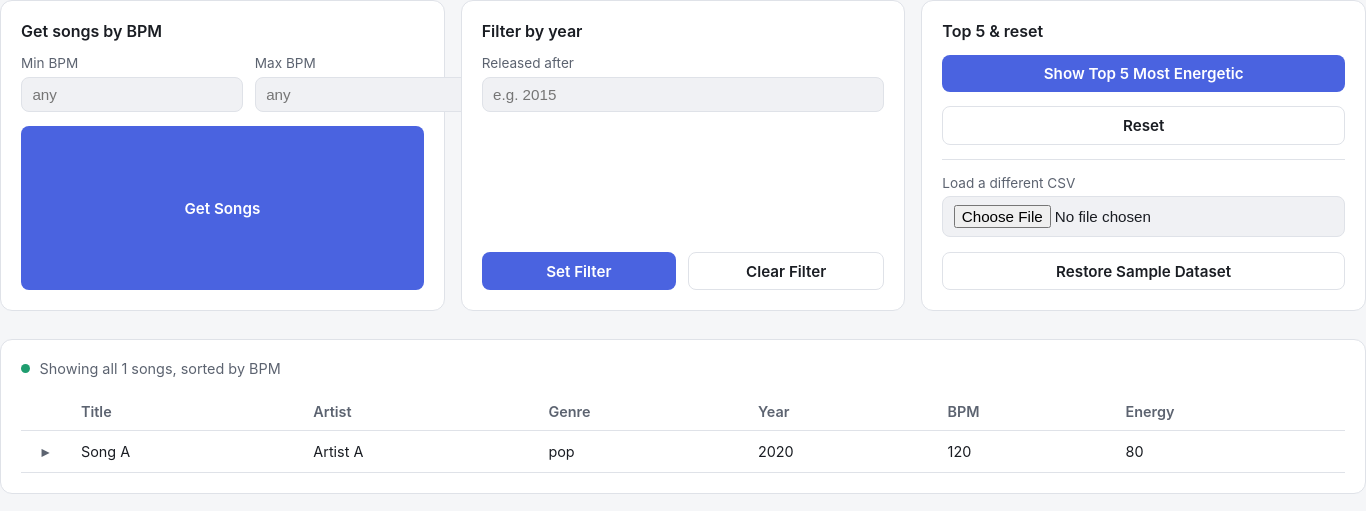
SpecDemoPanel › restores the bundled sample dataset when asked
Expected: the text "Song A" is shown, [69,430,301,473]
Click the button "Restore Sample Dataset".
click(1144, 271)  # box [942,252,1345,290]
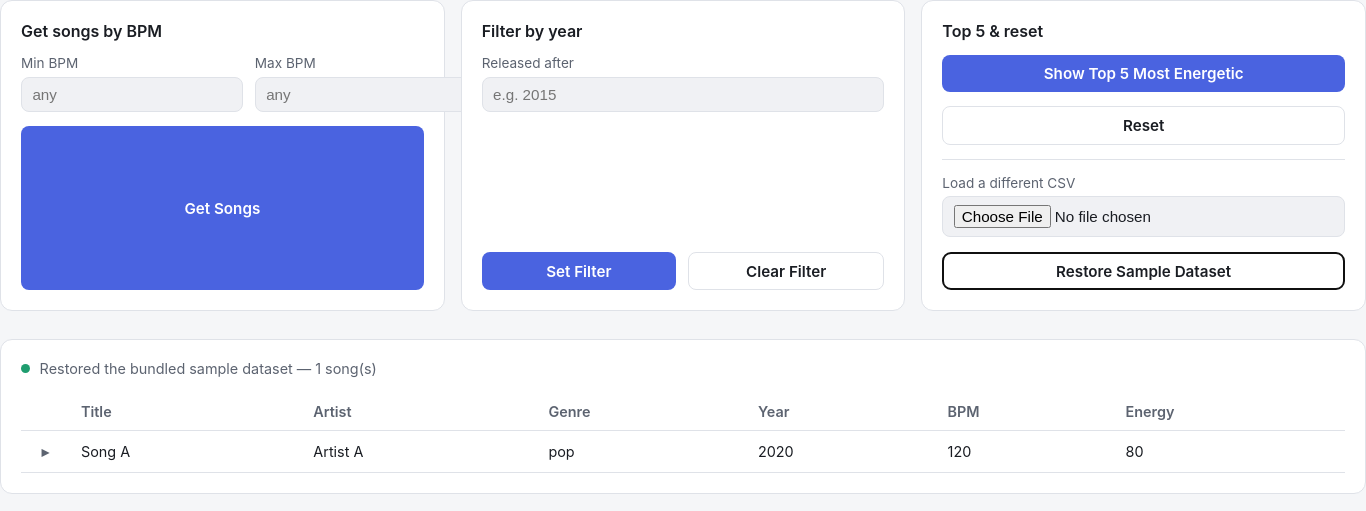
Result: the text "Restored the bundled sample dataset — 1 song(s)" is shown at [40,360,377,377]
